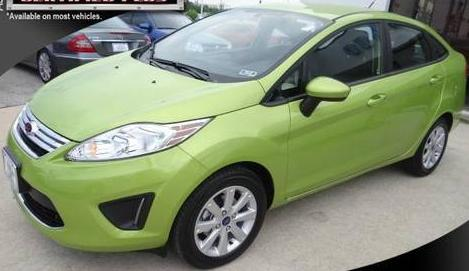front_view: (14, 92, 225, 259)
headlight: (68, 107, 215, 166)
side_glass: (305, 14, 434, 91)
